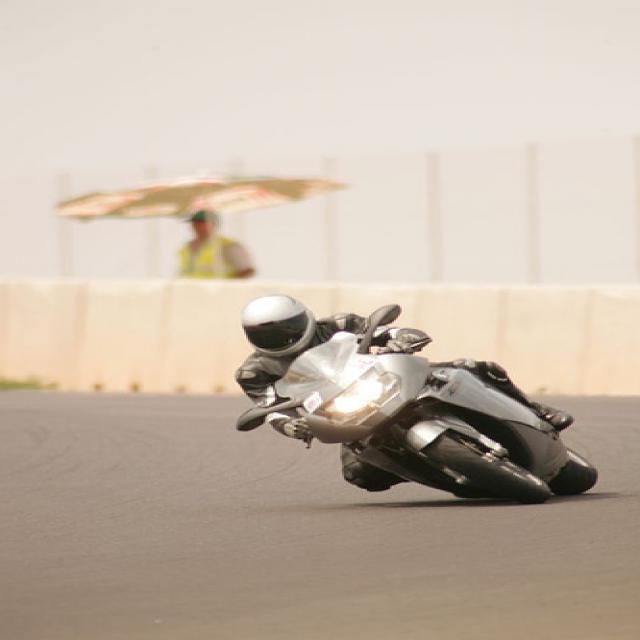Motorbike: (239, 298, 601, 533)
